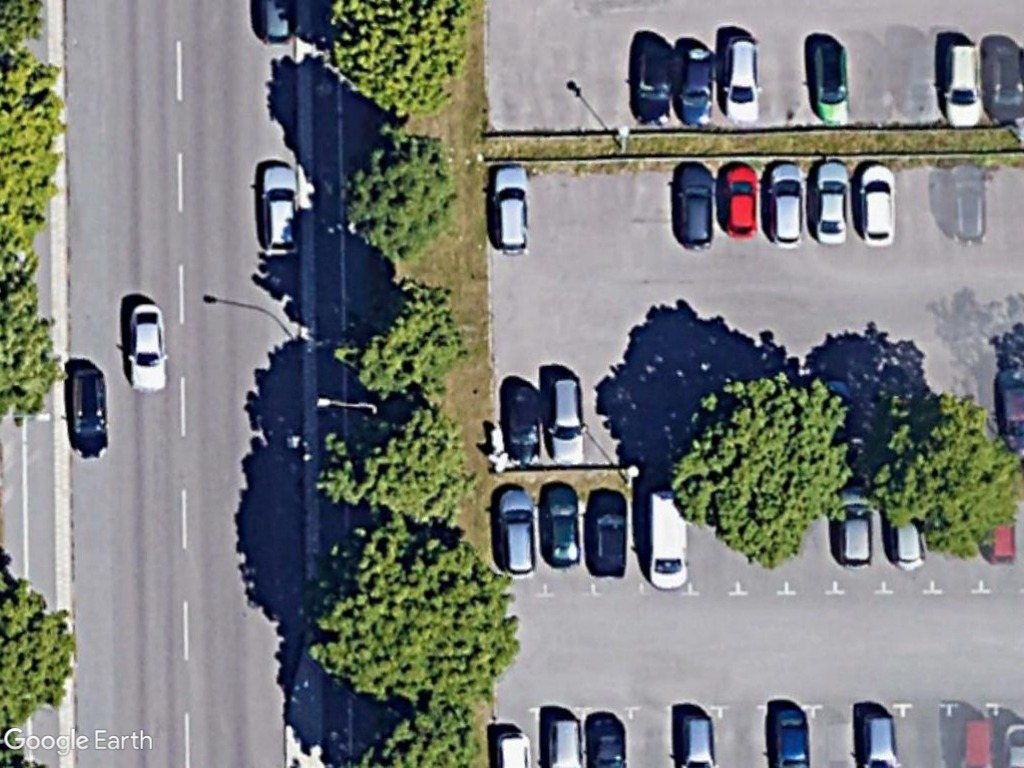car: (253, 154, 311, 265), (481, 153, 539, 263), (486, 478, 544, 584), (64, 356, 114, 468), (539, 366, 593, 467), (121, 299, 174, 401), (577, 481, 631, 581), (935, 35, 988, 136), (530, 477, 585, 573), (827, 475, 880, 573), (625, 38, 681, 130), (851, 153, 902, 253), (762, 154, 811, 257), (668, 159, 722, 252), (806, 153, 856, 250), (806, 38, 856, 130), (500, 378, 550, 469), (719, 30, 765, 128), (674, 37, 721, 128), (717, 157, 762, 246)
van: (639, 484, 695, 596)
